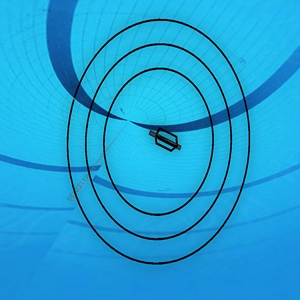circle: (67, 18, 252, 267)
submarine: (146, 125, 182, 154)
